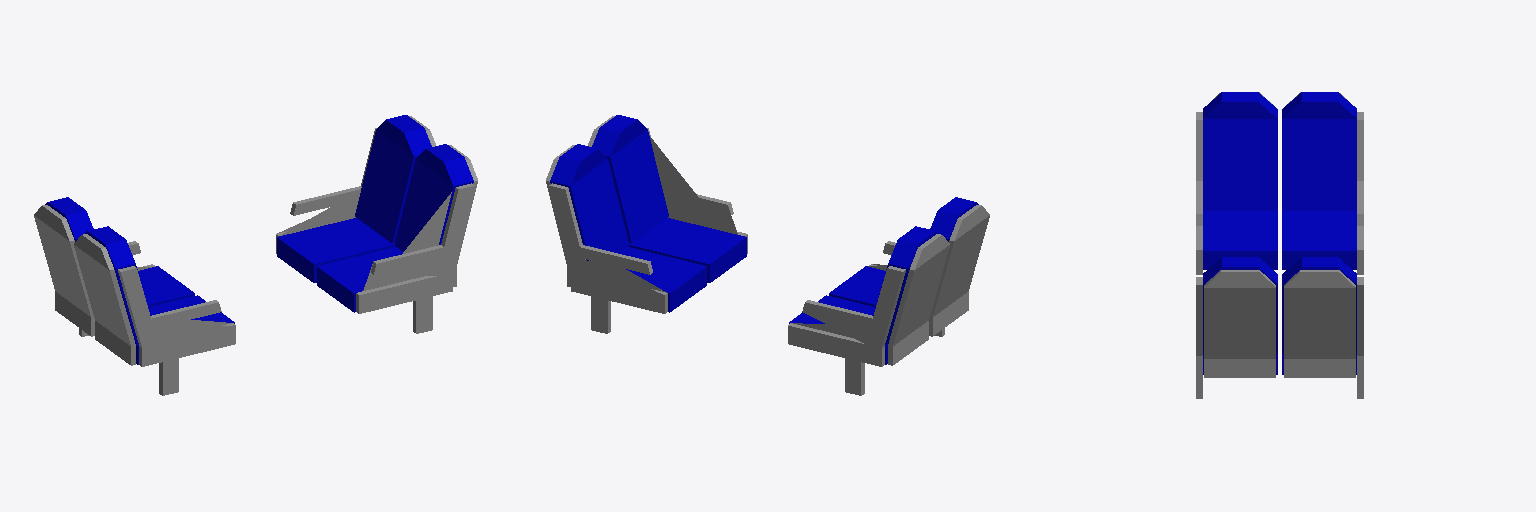
File: seats.obj
3 views of the same model, side by side, from view 1: azimuth 30°, elevation 25°; view 2: azimuth 150°, elevation 25°; view 3: azimuth 270°, elevation 25° (orthographic).
Parts seen in each view (by area): view 1: armchair; view 2: armchair; view 3: armchair.
Boxes of the visible parts, x1,y1,x2,y2 form: armchair: [34, 115, 477, 395]; armchair: [546, 115, 989, 395]; armchair: [1196, 92, 1363, 398].
Size of the model in its own units: 3.79 by 1.5 by 1.49.